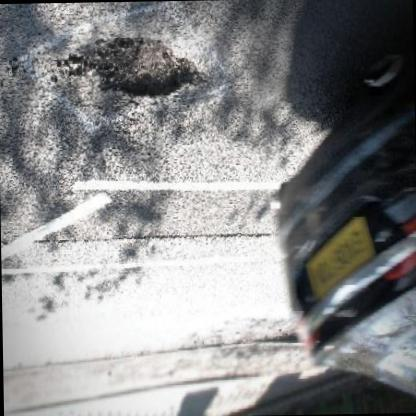pothole: (66, 34, 208, 98)
